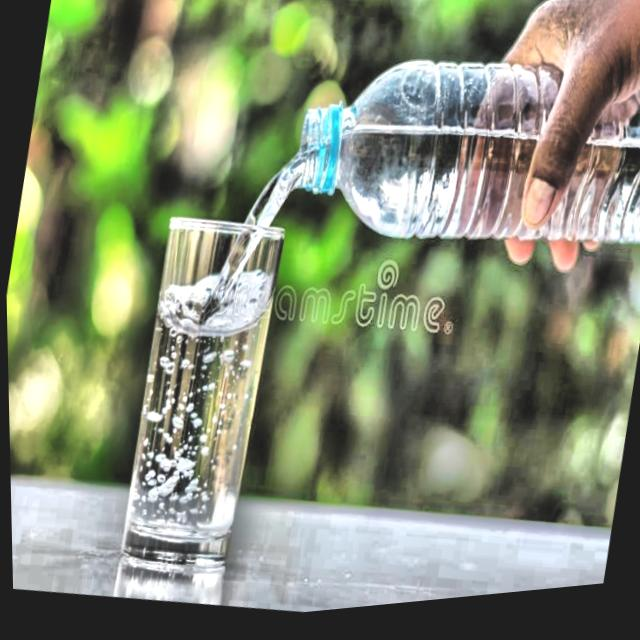Bottles: (281, 14, 640, 295)
